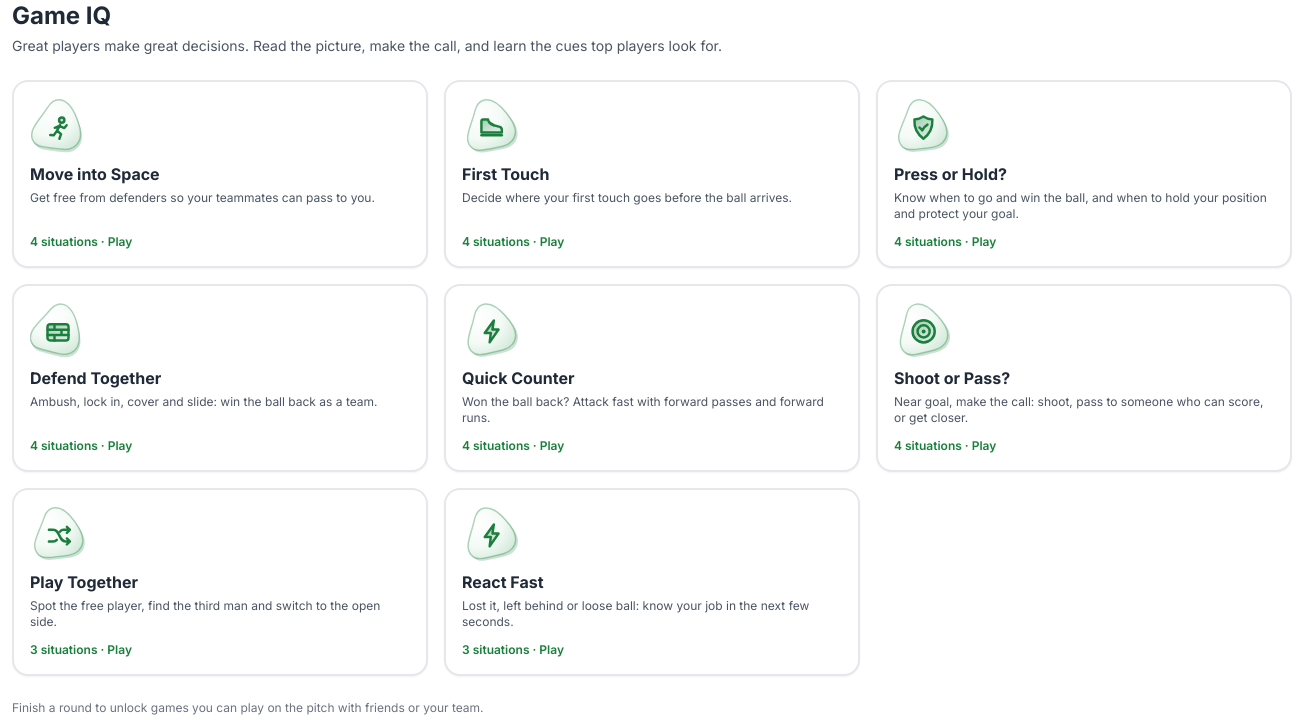
Test: DecisionGame › shows the pitch and situation for the first scenario
Click the button "Move into Space". click: (58, 126)
box: 12,80 -> 428,268
(page scrolled)
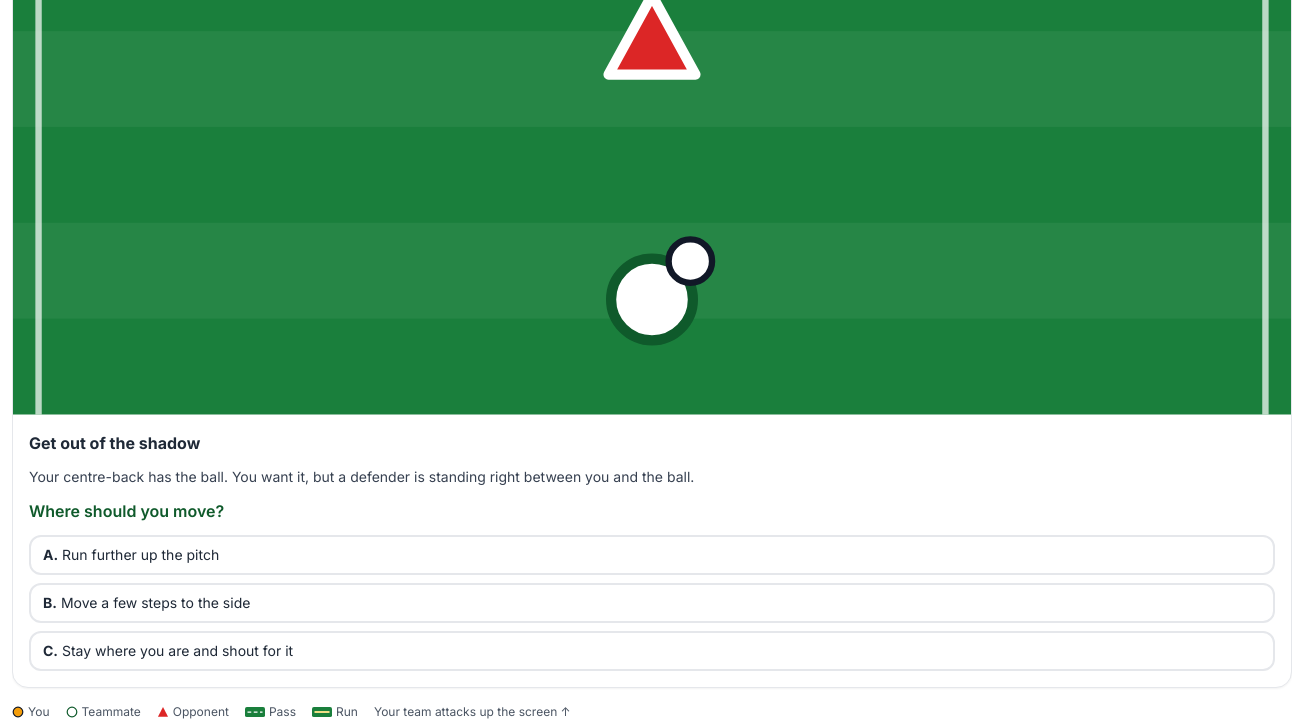
Expected: the heading "Get out of the shadow" is shown, 29,433 -> 200,453
